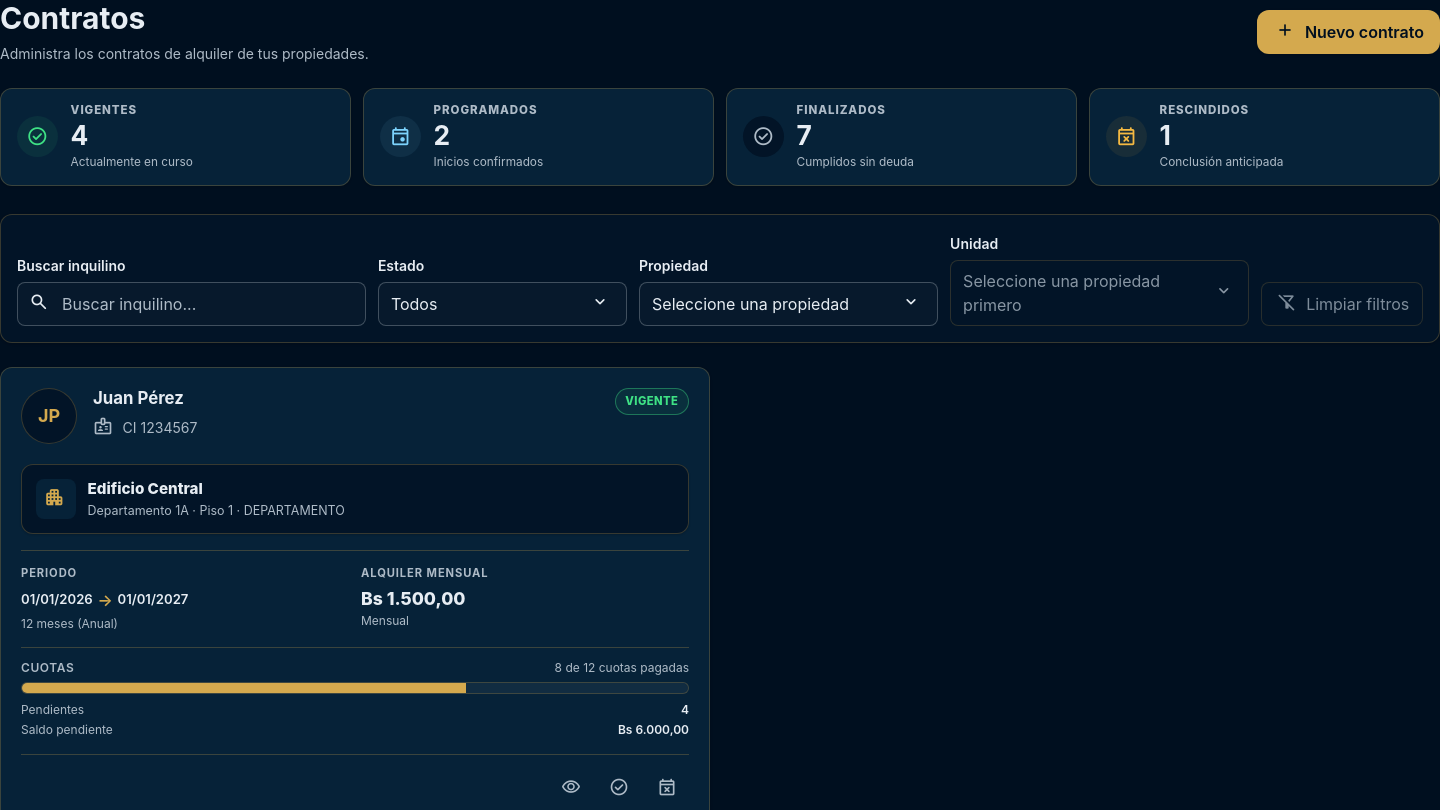
Test: ContratosListComponent › finalización: bloquea la confirmación cuando existen cuotas pendientes
Click the button with class "action-finish" at (619, 788), box top-left (597, 766), bottom-right (641, 809)
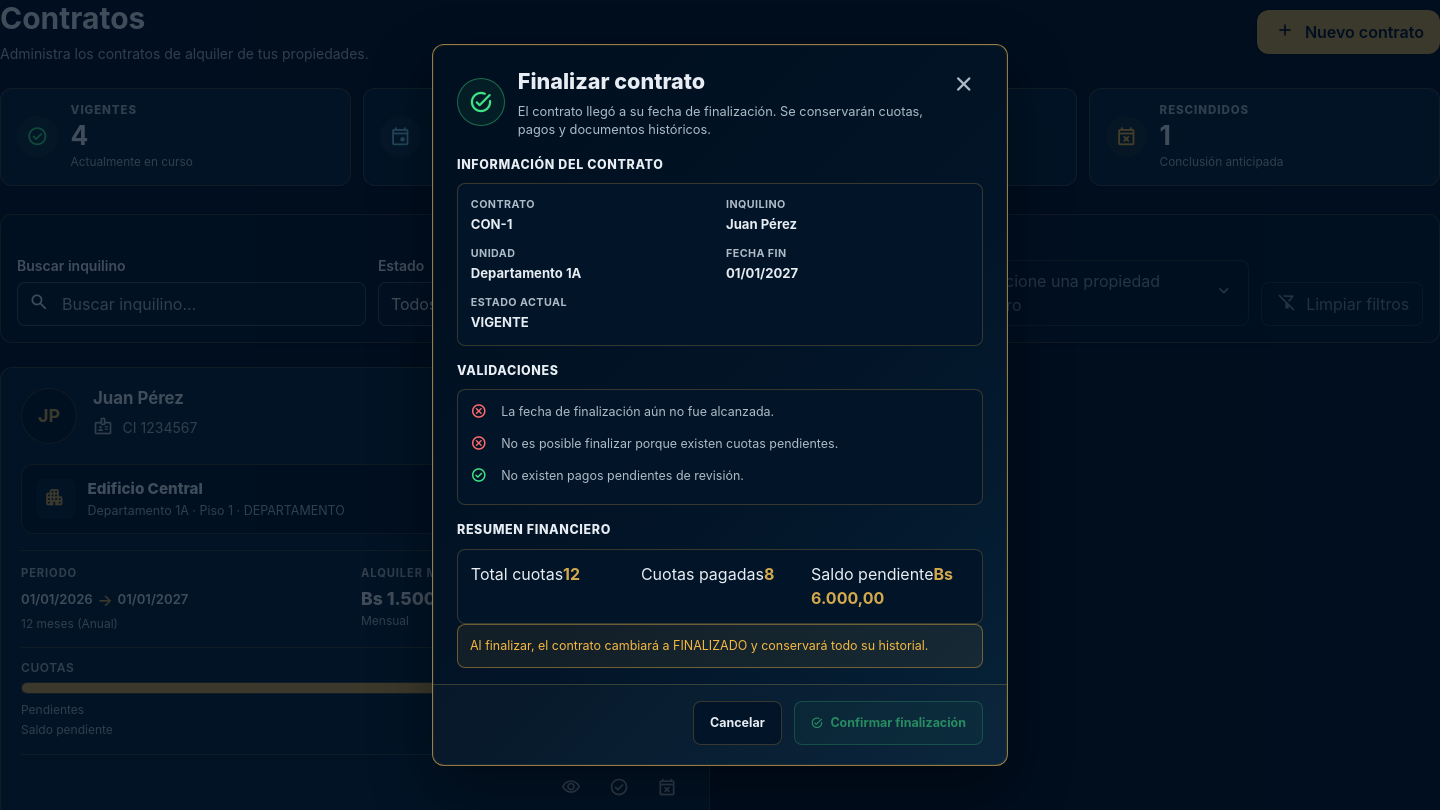
Now the text "No es posible finalizar porque existen cuotas pendientes." is shown, box top-left (501, 435), bottom-right (838, 453)
